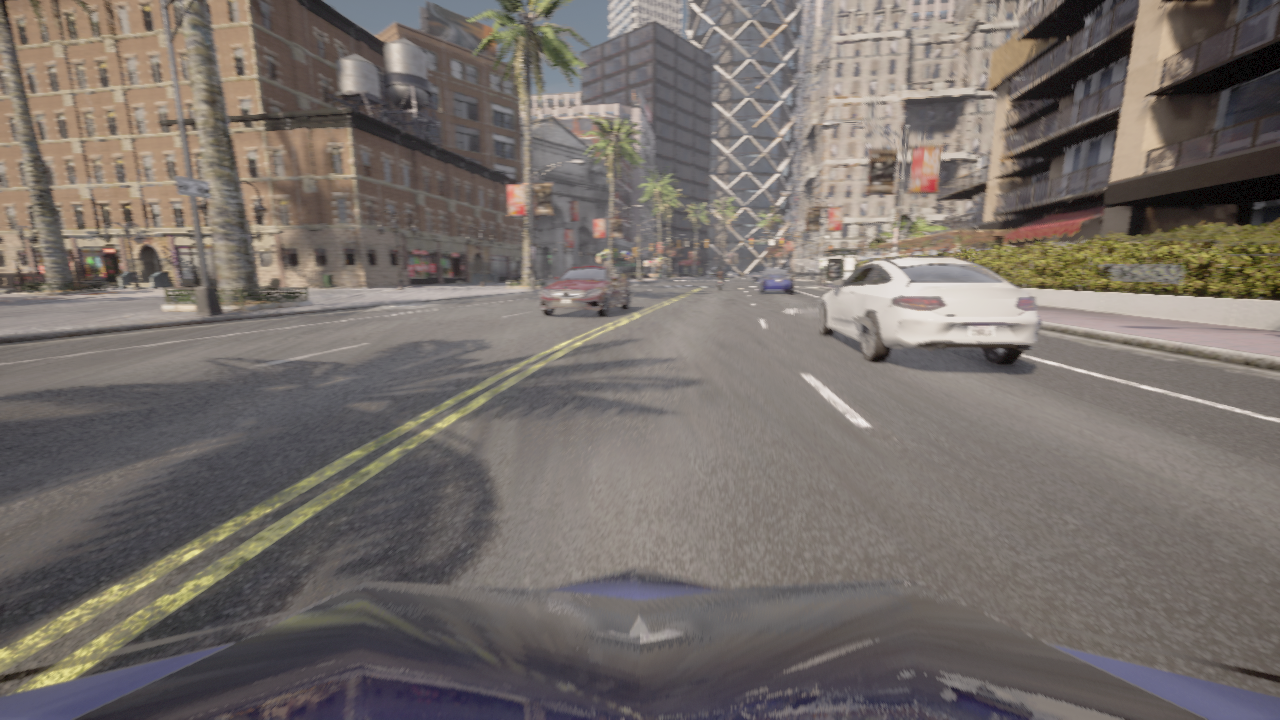cyclist: (0, 569, 1279, 719), (813, 257, 1040, 365), (540, 265, 633, 317), (758, 269, 794, 293), (751, 271, 763, 283), (717, 274, 725, 291)
